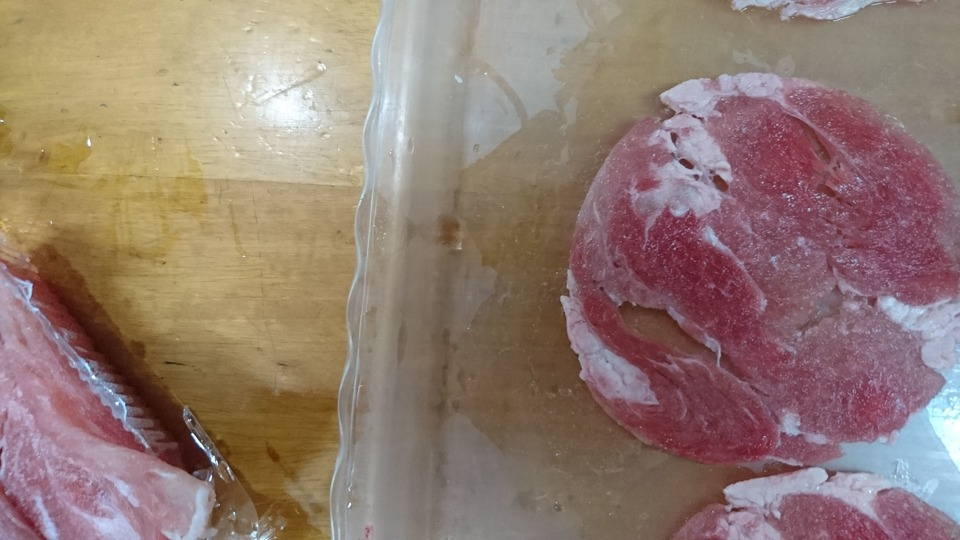restructured meat: (547, 48, 944, 461), (669, 474, 953, 537)
